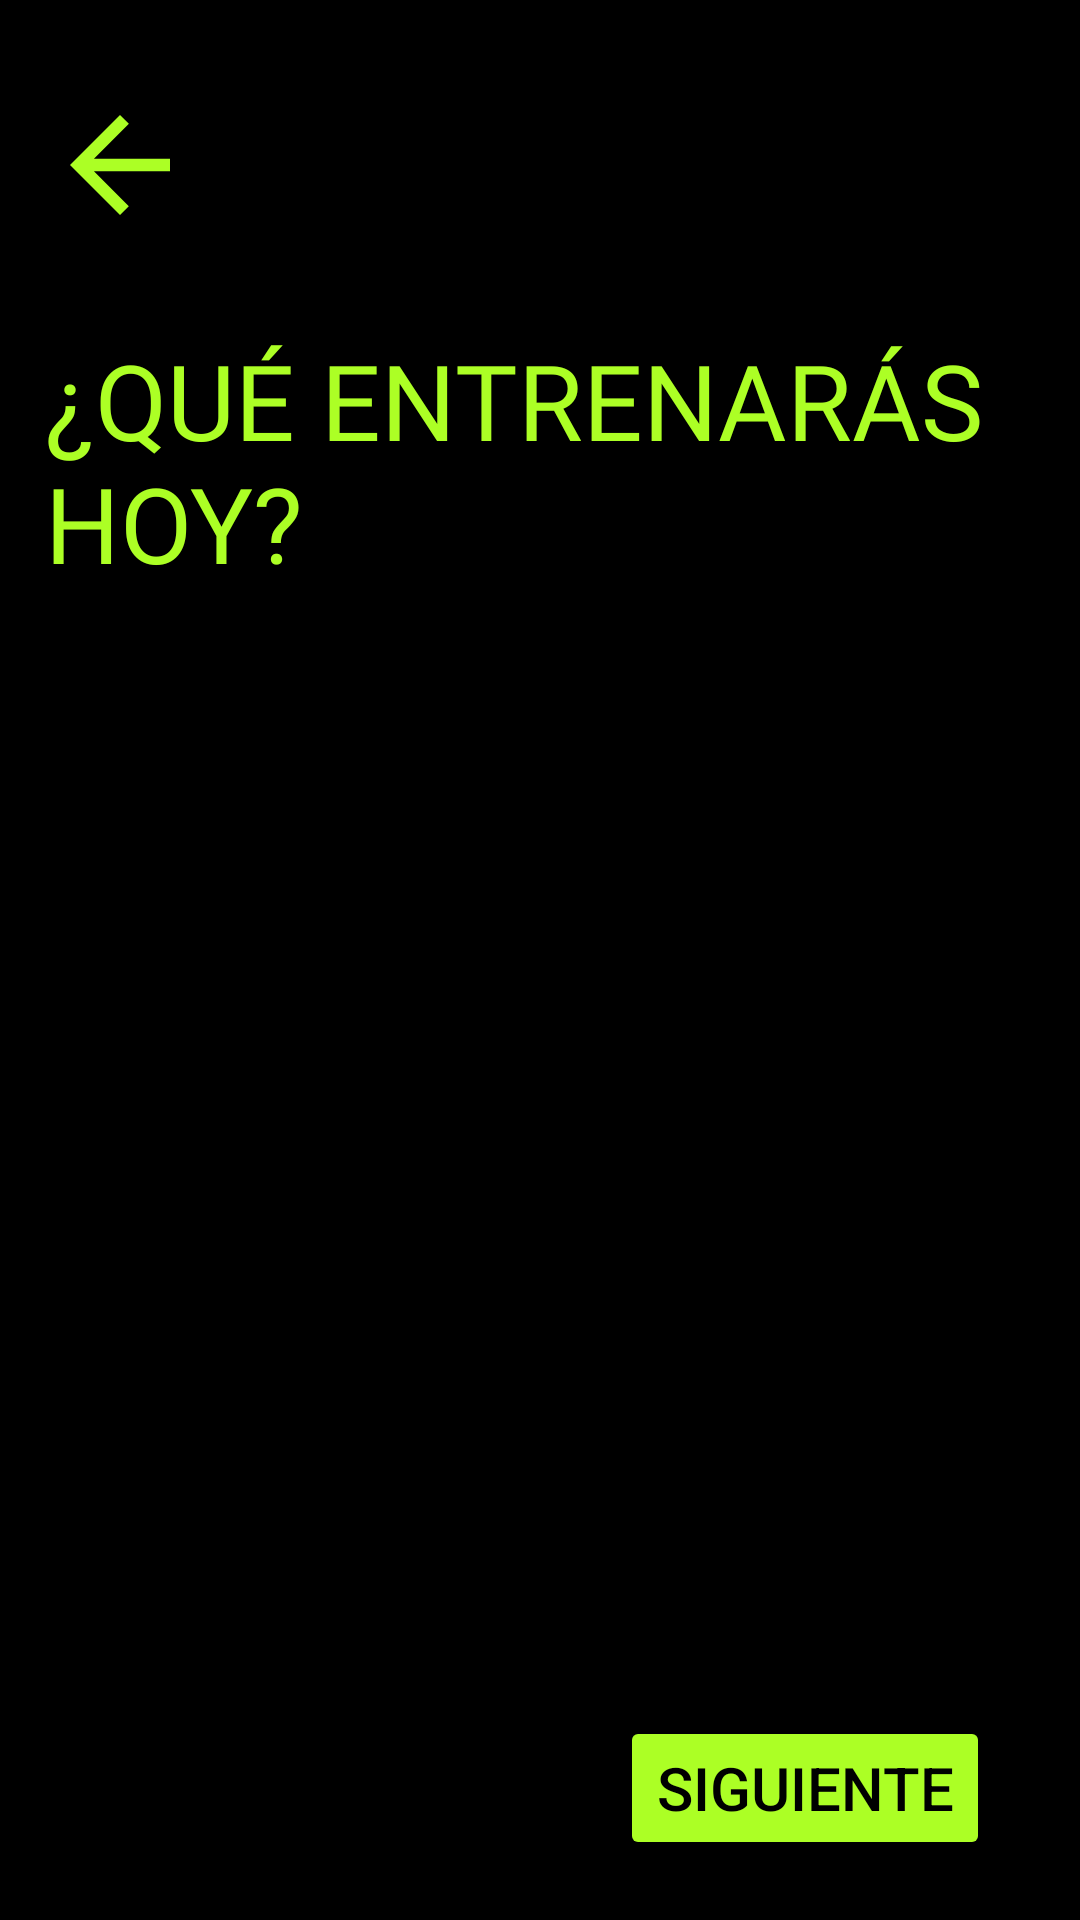

Named icons in this screenshot (1080*1920) and their centers, (x,y):
flecha atras: (120,165)
